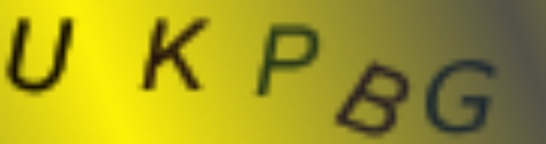B: (334, 58, 413, 139)
G: (423, 54, 498, 137)
K: (137, 16, 214, 94)
P: (252, 22, 322, 99)
U: (1, 11, 80, 97)
